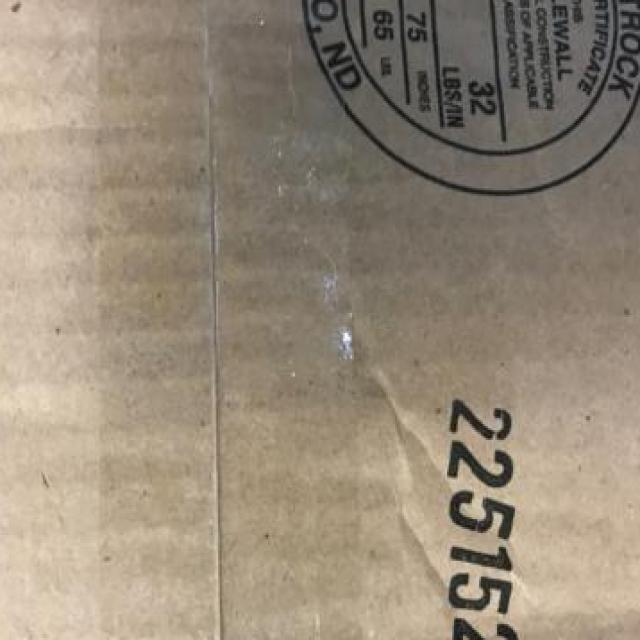organic: (7, 4, 631, 630)
